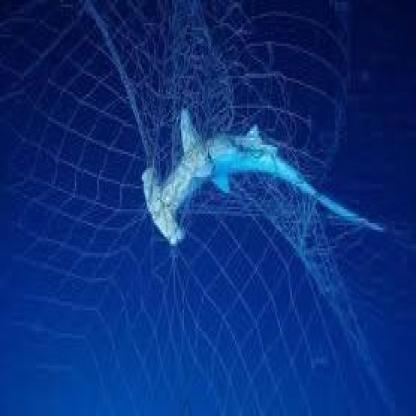net: (1, 7, 336, 398)
